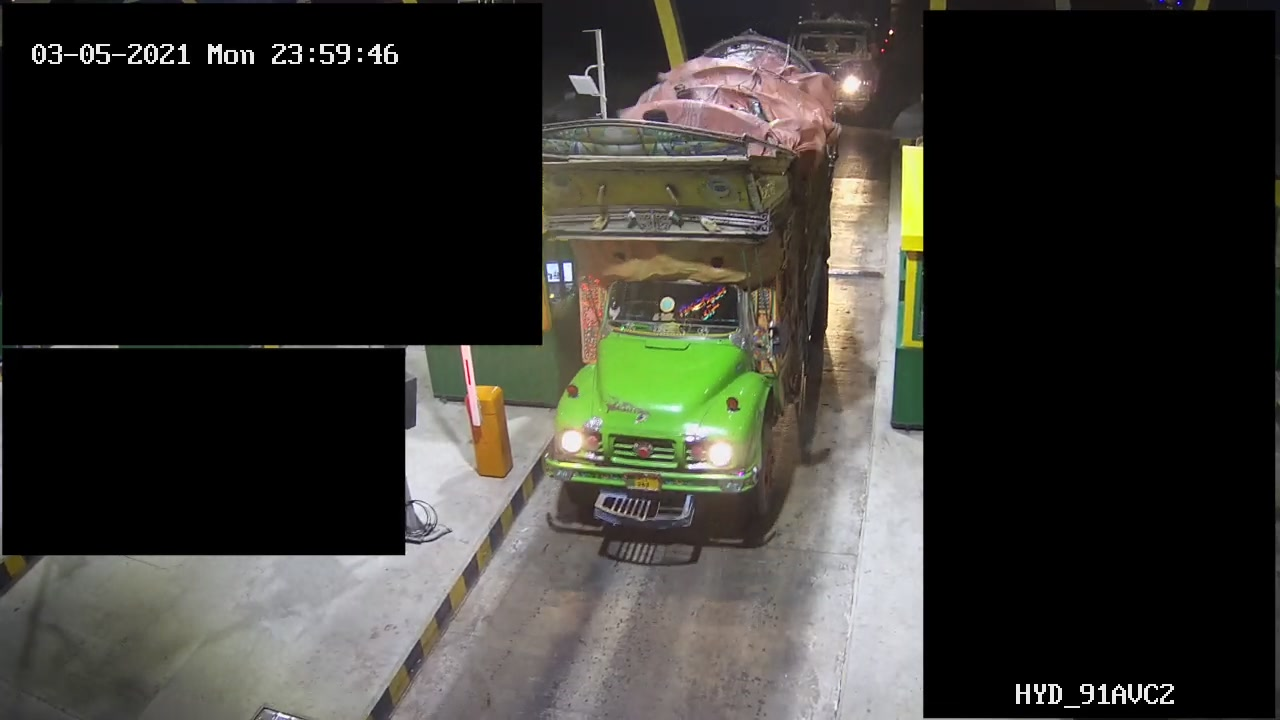F5: (510, 28, 840, 557)
